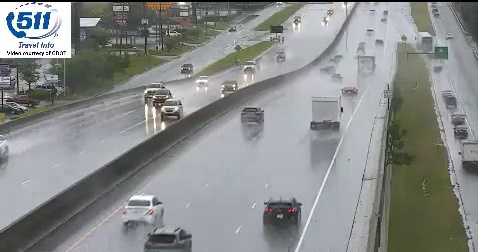car: (122, 195, 164, 224), (144, 228, 192, 252), (264, 199, 301, 227), (240, 106, 264, 124)
small-truck: (309, 97, 341, 131)
